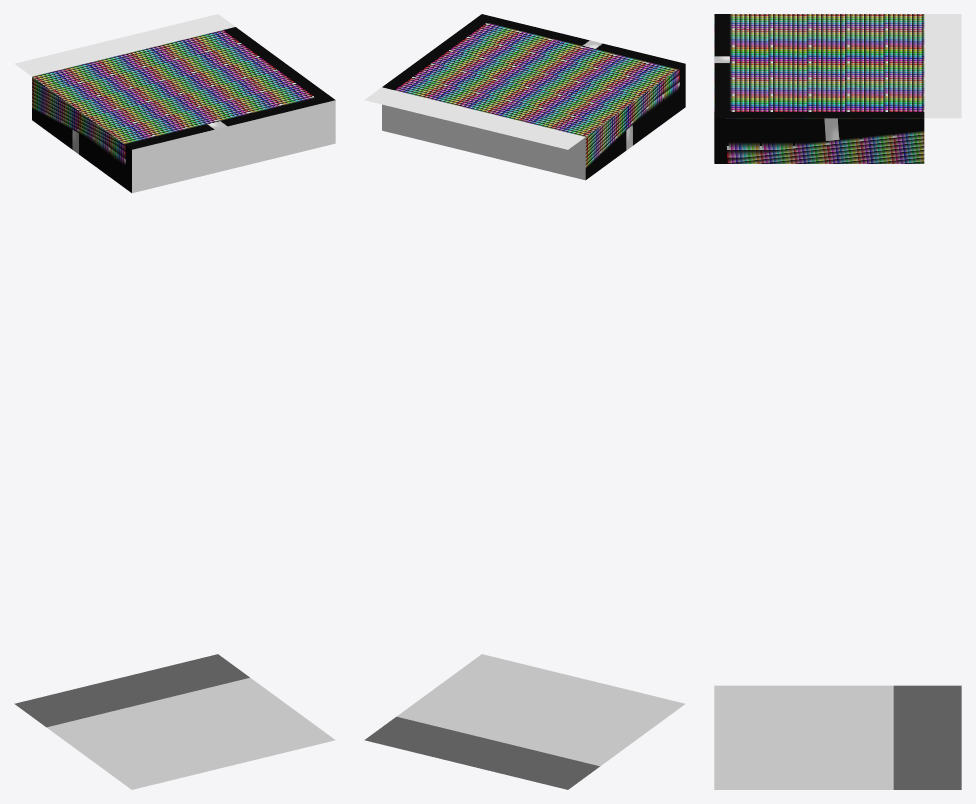
The model's file is ground_line_2_1.fbx.
3 renders of one model, left to right at view 1: azimuth 30°, elevation 25°; view 2: azimuth 150°, elevation 25°; view 3: azimuth 270°, elevation 25°, orthographic. The views are drawn at different scales.
Parts seen in each view (by area): view 1: shadowsOnly, ground_line_2_1, ceiling_line_2_1; view 2: shadowsOnly, ground_line_2_1, ceiling_line_2_1; view 3: shadowsOnly, ground_line_2_1, ceiling_line_2_1.
Boxes of the visible parts, x1,y1,x2,y2 form: shadowsOnly: [32, 27, 335, 193]; ground_line_2_1: [14, 654, 335, 789]; ceiling_line_2_1: [14, 14, 235, 76]; shadowsOnly: [382, 14, 685, 180]; ground_line_2_1: [364, 654, 685, 789]; ceiling_line_2_1: [364, 87, 584, 149]; shadowsOnly: [714, 14, 924, 163]; ground_line_2_1: [714, 685, 961, 789]; ceiling_line_2_1: [924, 14, 961, 118].
Size of what is drawn, in the model's own units: 100 by 300 by 100.
